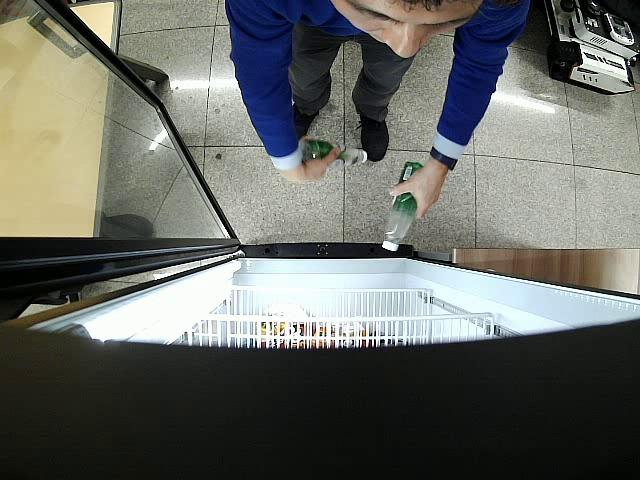00_hand: (390, 167, 448, 217), (302, 149, 340, 183)
18_trevi: (382, 162, 423, 250), (301, 137, 366, 168)
